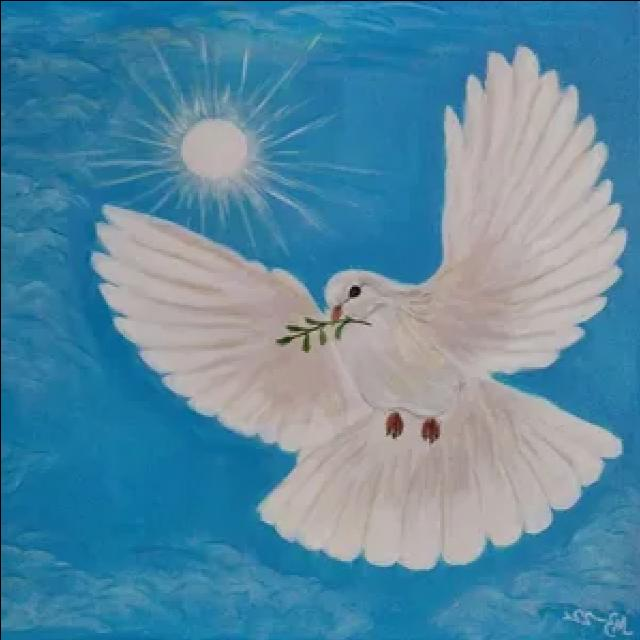pigeon: (88, 34, 640, 580)
